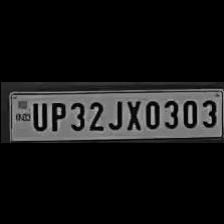0: (140, 96, 160, 128), (178, 95, 198, 127)
2: (84, 97, 104, 130)
3: (65, 97, 84, 130), (161, 96, 179, 128), (199, 95, 217, 127)
J: (105, 96, 123, 130)
P: (46, 97, 66, 131)
U: (28, 98, 46, 130)
X: (122, 96, 142, 130)
